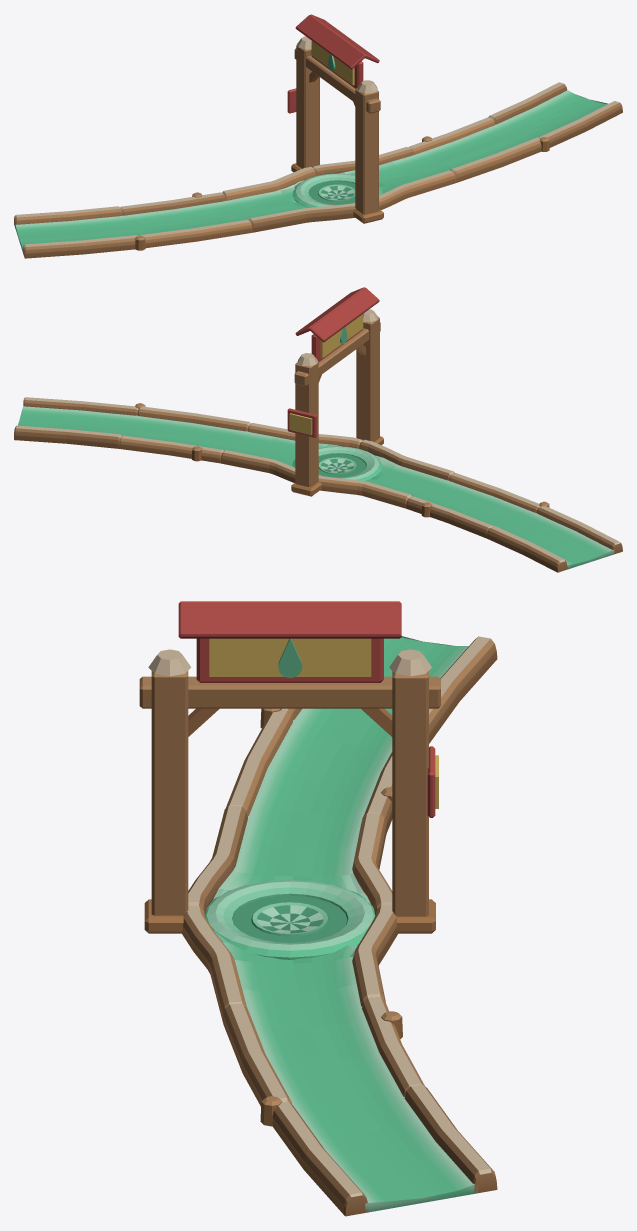
Rendered from parade_lane_gate.fbx.
The picture shows the model from 3 angles, top to bottom: view 1: azimuth 30°, elevation 25°; view 2: azimuth 150°, elevation 25°; view 3: azimuth 270°, elevation 25°; orthographic projection. The views are drawn at different scales.
Parts seen in each view (by area): view 1: parade_lane_gate; view 2: parade_lane_gate; view 3: parade_lane_gate.
Part boxes in pixels (x1,y1,x2,y2): parade_lane_gate: (14, 14, 622, 258); parade_lane_gate: (14, 287, 622, 572); parade_lane_gate: (139, 601, 497, 1216).
Bounding box in the file's own units: 54.53 × 14.03 × 14.13.
